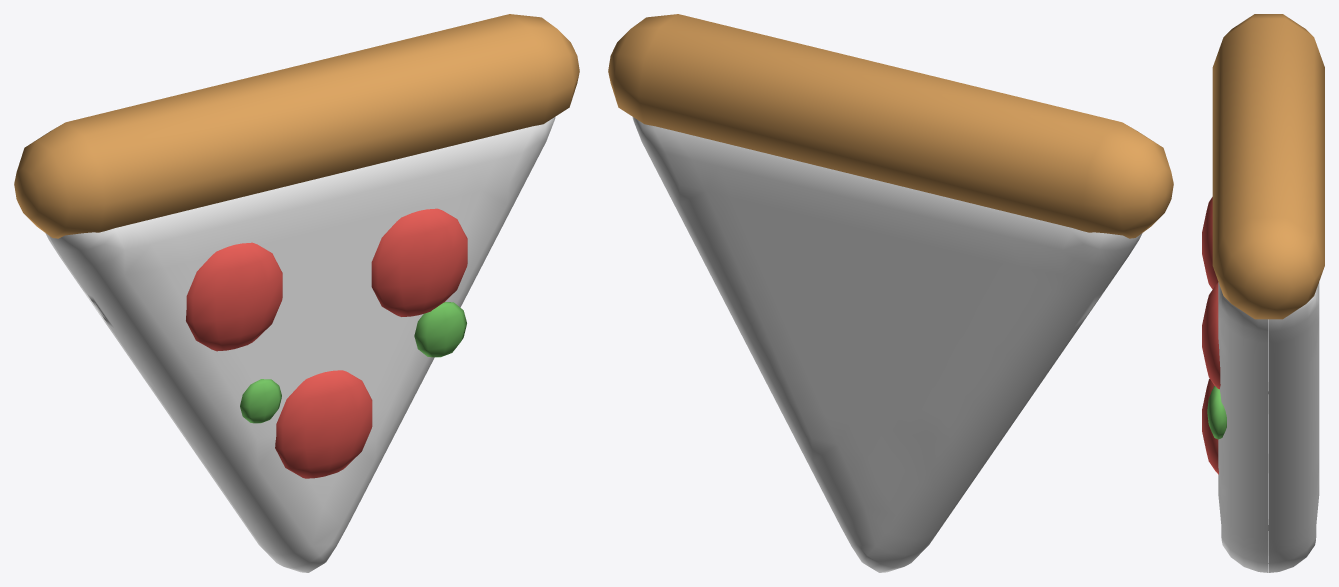
File: pizza.glb
The picture shows the model from 3 angles, left to right: view 1: azimuth 30°, elevation 25°; view 2: azimuth 150°, elevation 25°; view 3: azimuth 270°, elevation 25°; orthographic projection. The views are drawn at different scales.
Parts seen in each view (by area): view 1: pizza; view 2: pizza; view 3: pizza.
Boxes of the visible parts, x1,y1,x2,y2 form: pizza: (14,14,579,572); pizza: (608,14,1173,572); pizza: (1202,14,1324,572).
Bounding box in the file's own units: 1 × 0.8582 × 0.2106.
